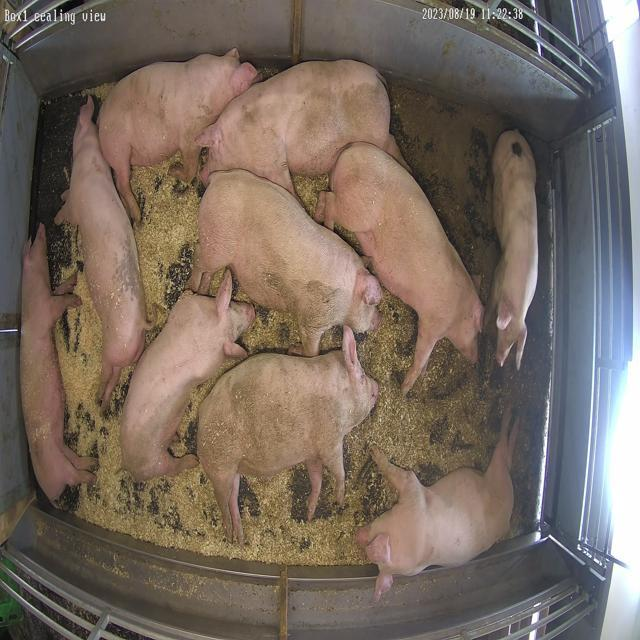Dirt: (416, 321, 554, 538), (390, 80, 512, 304), (530, 135, 557, 330)
Pig: (316, 143, 485, 394), (199, 327, 379, 544), (191, 170, 383, 356), (357, 407, 520, 602), (54, 97, 147, 410), (120, 271, 255, 482), (98, 48, 260, 222), (196, 59, 406, 192), (20, 224, 95, 502), (492, 130, 539, 368)
